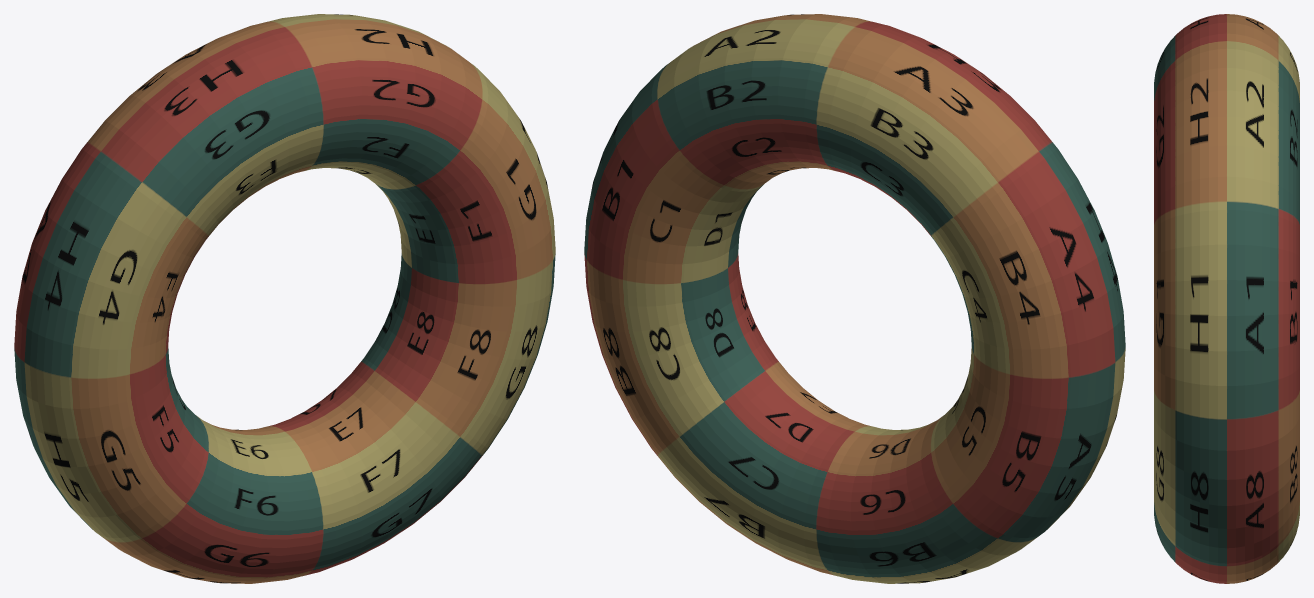
The model's file is texture_torus_R3_r8.glb.
3 views of the same model, side by side, from view 1: azimuth 30°, elevation 25°; view 2: azimuth 150°, elevation 25°; view 3: azimuth 270°, elevation 25° (orthographic). The views are drawn at different scales.
Parts seen in each view (by area): view 1: world; view 2: world; view 3: world.
Boxes of the visible parts, x1=… form: world: x1=14, y1=14, x2=555, y2=583; world: x1=584, y1=14, x2=1125, y2=583; world: x1=1154, y1=14, x2=1299, y2=583.
Size of the model in its own units: 16.13 by 16.1 by 4.13.
Materials: 1 (1 with a texture image).
